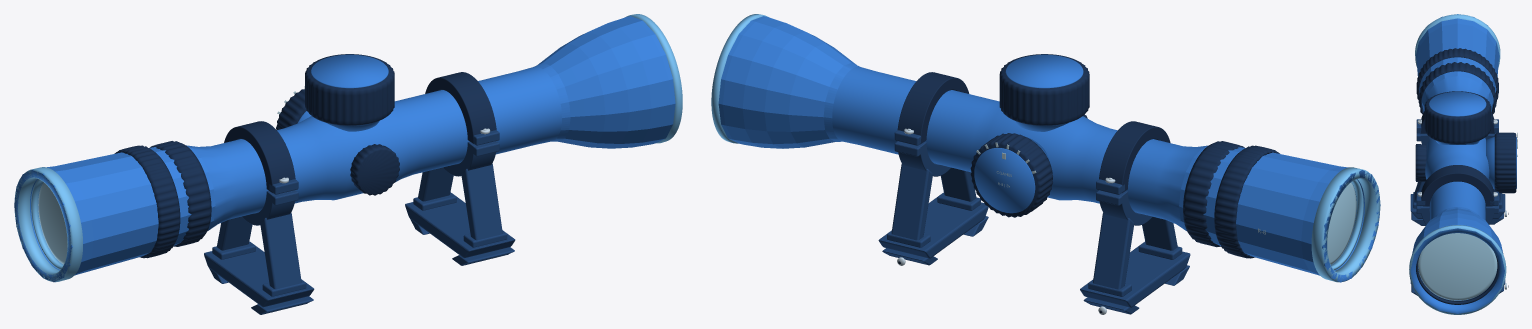
File: R8_Prism_8x_BlueCrystal_A5_Rail.fbx
3 views of the same model, side by side, from view 1: azimuth 30°, elevation 25°; view 2: azimuth 150°, elevation 25°; view 3: azimuth 270°, elevation 25° (orthographic). The views are drawn at different scales.
Visible parts, largest first — view 1: 01 SHELL | curved objective and long rear neck, 11 TOP CAP RIM, 05 REAR LIP | dark scallop, 09 REAR COLLAR B | fine grooves, 08 REAR COLLAR A | wide shallow grooves, 25.0 LOCAL CROWN | independent seat, 25.1 LOCAL CROWN | independent seat, 23.0.-1 SUPPORT ARM, 23.1.-1 SUPPORT ARM, 17.0 RING UPPER, 17.1 RING UPPER, 12 TOP CAP FACE (+11 smaller); view 2: 01 SHELL | curved objective and long rear neck, 11 TOP CAP RIM, 05 REAR LIP | dark scallop, 15 RIGHT CAP FACE, 09 REAR COLLAR B | fine grooves, 08 REAR COLLAR A | wide shallow grooves, 25.1 LOCAL CROWN | independent seat, 25.0 LOCAL CROWN | independent seat, 23.0.1 SUPPORT ARM, 23.1.1 SUPPORT ARM, 14 RIGHT CAP RIM, 17.0 RING UPPER (+9 smaller); view 3: 01 SHELL | curved objective and long rear neck, 04 FRONT PANE | deep blue coat, 11 TOP CAP RIM, 17.0 RING UPPER, 14 RIGHT CAP RIM, 12 TOP CAP FACE, 09 REAR COLLAR B | fine grooves, 08 REAR COLLAR A | wide shallow grooves, 02 FRONT LIP | fine rim, 05 REAR LIP | dark scallop, 03 FRONT INNER | matte rim, 16 LEFT SMALL CAP (+8 smaller).
Boxes of the visible parts, left/top/right/bottom form: 01 SHELL | curved objective and long rear neck: left=14, top=16, right=675, bottom=282; 11 TOP CAP RIM: left=305, top=54, right=394, bottom=125; 05 REAR LIP | dark scallop: left=14, top=167, right=82, bottom=282; 09 REAR COLLAR B | fine grooves: left=114, top=145, right=180, bottom=258; 08 REAR COLLAR A | wide shallow grooves: left=150, top=141, right=211, bottom=246; 25.0 LOCAL CROWN | independent seat: left=405, top=193, right=515, bottom=257; 25.1 LOCAL CROWN | independent seat: left=204, top=243, right=314, bottom=307; 23.0.-1 SUPPORT ARM: left=461, top=163, right=502, bottom=240; 23.1.-1 SUPPORT ARM: left=260, top=212, right=301, bottom=289; 17.0 RING UPPER: left=425, top=72, right=496, bottom=143; 17.1 RING UPPER: left=224, top=121, right=295, bottom=192; 12 TOP CAP FACE: left=311, top=54, right=388, bottom=88; 01 SHELL | curved objective and long rear neck: left=718, top=16, right=1380, bottom=282; 11 TOP CAP RIM: left=999, top=54, right=1089, bottom=125; 05 REAR LIP | dark scallop: left=1311, top=167, right=1380, bottom=282; 15 RIGHT CAP FACE: left=974, top=148, right=1035, bottom=213; 09 REAR COLLAR B | fine grooves: left=1214, top=145, right=1279, bottom=258; 08 REAR COLLAR A | wide shallow grooves: left=1183, top=141, right=1244, bottom=247; 25.1 LOCAL CROWN | independent seat: left=1080, top=245, right=1190, bottom=307; 25.0 LOCAL CROWN | independent seat: left=878, top=195, right=988, bottom=258; 23.0.1 SUPPORT ARM: left=891, top=164, right=932, bottom=240; 23.1.1 SUPPORT ARM: left=1093, top=213, right=1134, bottom=289; 14 RIGHT CAP RIM: left=970, top=133, right=1052, bottom=217; 17.0 RING UPPER: left=897, top=72, right=969, bottom=144; 01 SHELL | curved objective and long rear neck: left=1410, top=14, right=1504, bottom=313; 04 FRONT PANE | deep blue coat: left=1418, top=233, right=1497, bottom=300; 11 TOP CAP RIM: left=1424, top=91, right=1490, bottom=144; 17.0 RING UPPER: left=1420, top=165, right=1494, bottom=206; 14 RIGHT CAP RIM: left=1494, top=132, right=1516, bottom=193; 12 TOP CAP FACE: left=1429, top=91, right=1486, bottom=116; 09 REAR COLLAR B | fine grooves: left=1416, top=48, right=1498, bottom=103; 08 REAR COLLAR A | wide shallow grooves: left=1419, top=62, right=1496, bottom=114; 02 FRONT LIP | fine rim: left=1409, top=225, right=1506, bottom=314; 05 REAR LIP | dark scallop: left=1415, top=14, right=1500, bottom=67; 03 FRONT INNER | matte rim: left=1416, top=252, right=1499, bottom=304; 16 LEFT SMALL CAP: left=1415, top=144, right=1426, bottom=181.
Size of the model in its own units: 30.98 by 9.67 by 6.5.
